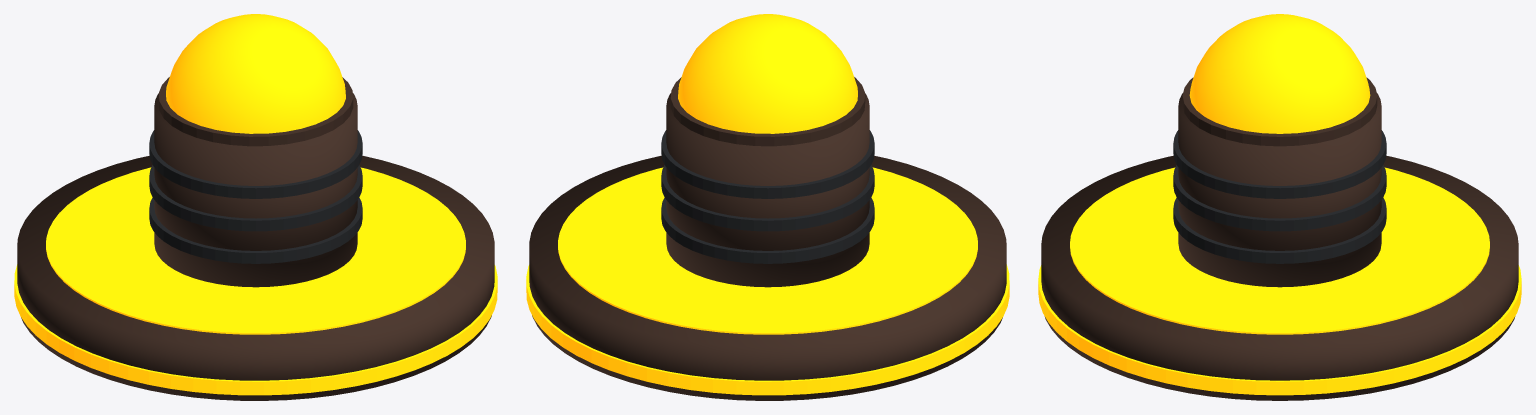
Rendered from rebatedor_wasteland_apocalypse_p1.glb.
The picture shows the model from 3 angles, left to right: view 1: azimuth 30°, elevation 25°; view 2: azimuth 150°, elevation 25°; view 3: azimuth 270°, elevation 25°; orthographic projection.
Parts seen in each view (by area): view 1: Cylinder.002, Cylinder, Cylinder.003, Sphere, Cylinder.001, Cylinder.006, Cylinder.004, Cylinder.005, Cylinder.007; view 2: Cylinder.002, Cylinder, Cylinder.003, Sphere, Cylinder.001, Cylinder.006, Cylinder.004, Cylinder.005, Cylinder.007; view 3: Cylinder.002, Cylinder, Cylinder.003, Sphere, Cylinder.001, Cylinder.006, Cylinder.004, Cylinder.005, Cylinder.007.
Part boxes in pixels (x1,y1,x2,y2): Cylinder.002: [46, 167, 465, 334]; Cylinder: [17, 155, 494, 400]; Cylinder.003: [154, 93, 357, 287]; Sphere: [166, 14, 345, 133]; Cylinder.001: [14, 264, 497, 395]; Cylinder.006: [149, 130, 362, 198]; Cylinder.004: [149, 197, 362, 263]; Cylinder.005: [149, 165, 362, 231]; Cylinder.007: [158, 77, 353, 146]; Cylinder.002: [558, 167, 977, 334]; Cylinder: [529, 155, 1006, 400]; Cylinder.003: [666, 93, 869, 287]; Sphere: [678, 14, 857, 133]; Cylinder.001: [526, 264, 1009, 395]; Cylinder.006: [661, 130, 874, 198]; Cylinder.004: [661, 197, 874, 263]; Cylinder.005: [661, 165, 874, 231]; Cylinder.007: [670, 77, 865, 146]; Cylinder.002: [1070, 167, 1489, 334]; Cylinder: [1041, 155, 1518, 400]; Cylinder.003: [1178, 93, 1381, 287]; Sphere: [1189, 14, 1370, 133]; Cylinder.001: [1038, 265, 1521, 395]; Cylinder.006: [1173, 130, 1386, 198]; Cylinder.004: [1173, 197, 1386, 263]; Cylinder.005: [1173, 165, 1386, 231]; Cylinder.007: [1182, 77, 1377, 146].
Size of the model in its own units: 0.1619 by 0.1032 by 0.1619.
